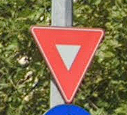cedeaza: (30, 24, 111, 106)
